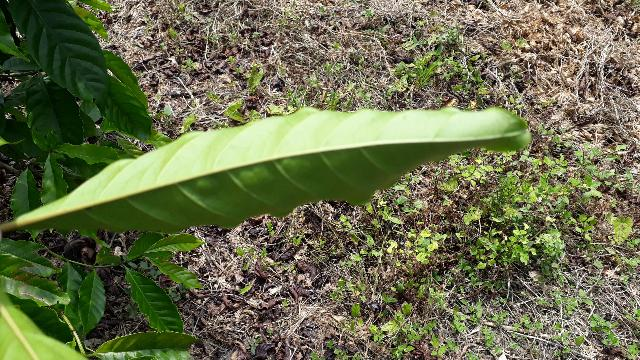healthy: (13, 98, 540, 235)
